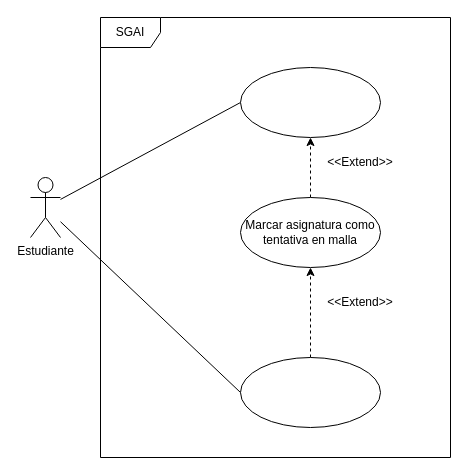
Image size: 468x475. Some labels were removed from this diagram. Here are the shapes that lost their labels. From the top down, the centre of each, then its label:
At [310,102]: "Visualizar malla interactiva con estado de asignaturas".
At [310,392]: "Consultar cadena de prerequisitos de una asignatura".
